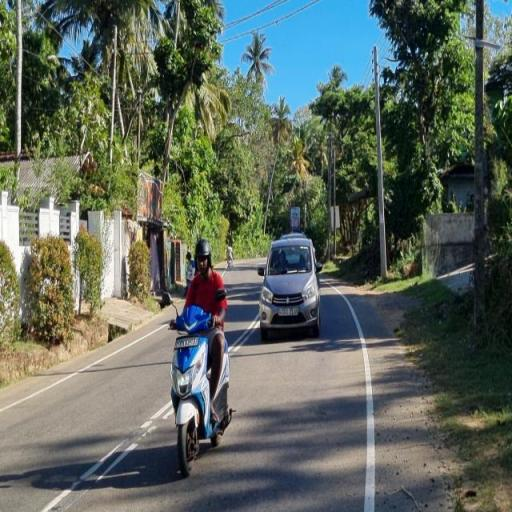double_white_line: (42, 394, 170, 510)
